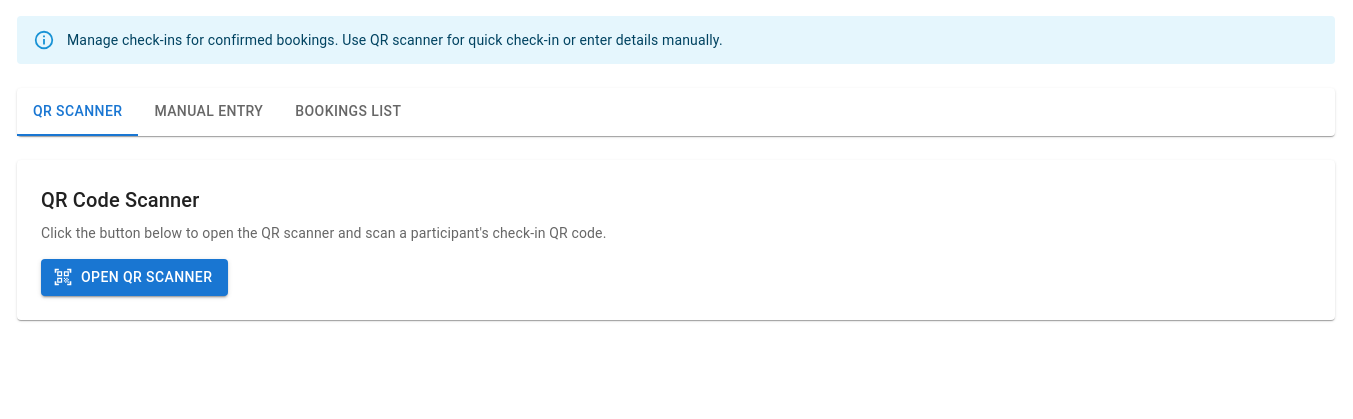
AdminCheckInManagement › should switch to manual entry tab
Step 1. Click the tab "Manual Entry" → (209, 112), box [138,88,279,136]
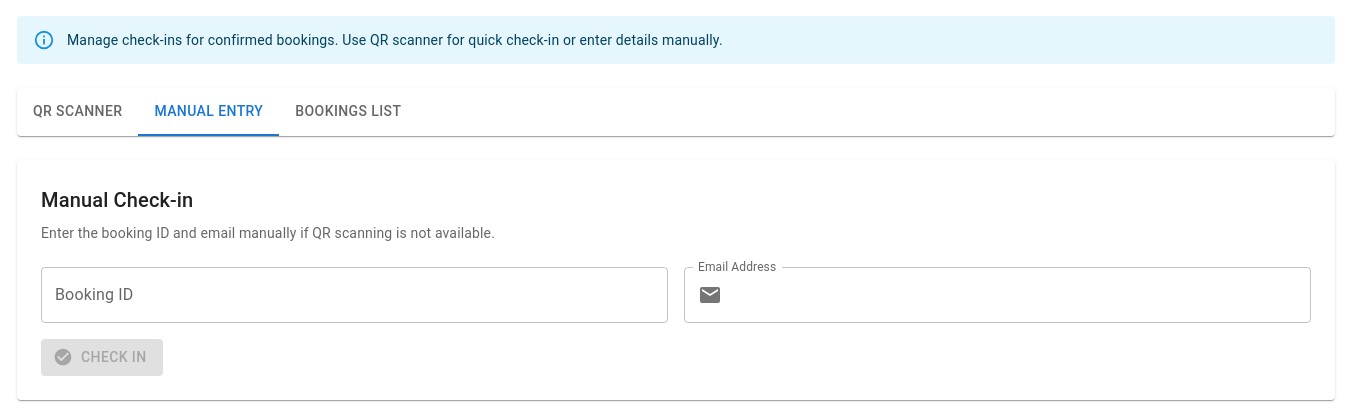
expect the heading "Manual Check-in" is shown: met, box [41,188,193,212]
expect the field labelled "Booking ID" is shown: met, box [41,267,668,323]
expect the field labelled "Email Address" is shown: met, box [730,267,1311,323]
